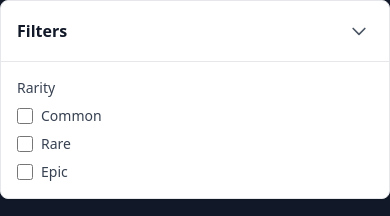
Scenario: FilterPanel › Collapsible Behavior › should toggle aria-expanded on collapse
Click the button named "Collapse filters" at (359, 31), box [345, 17, 373, 45]
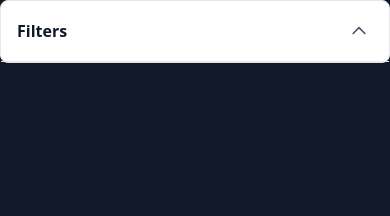
Now the button named "Expand filters" is collapsed, box [345, 17, 373, 45]
